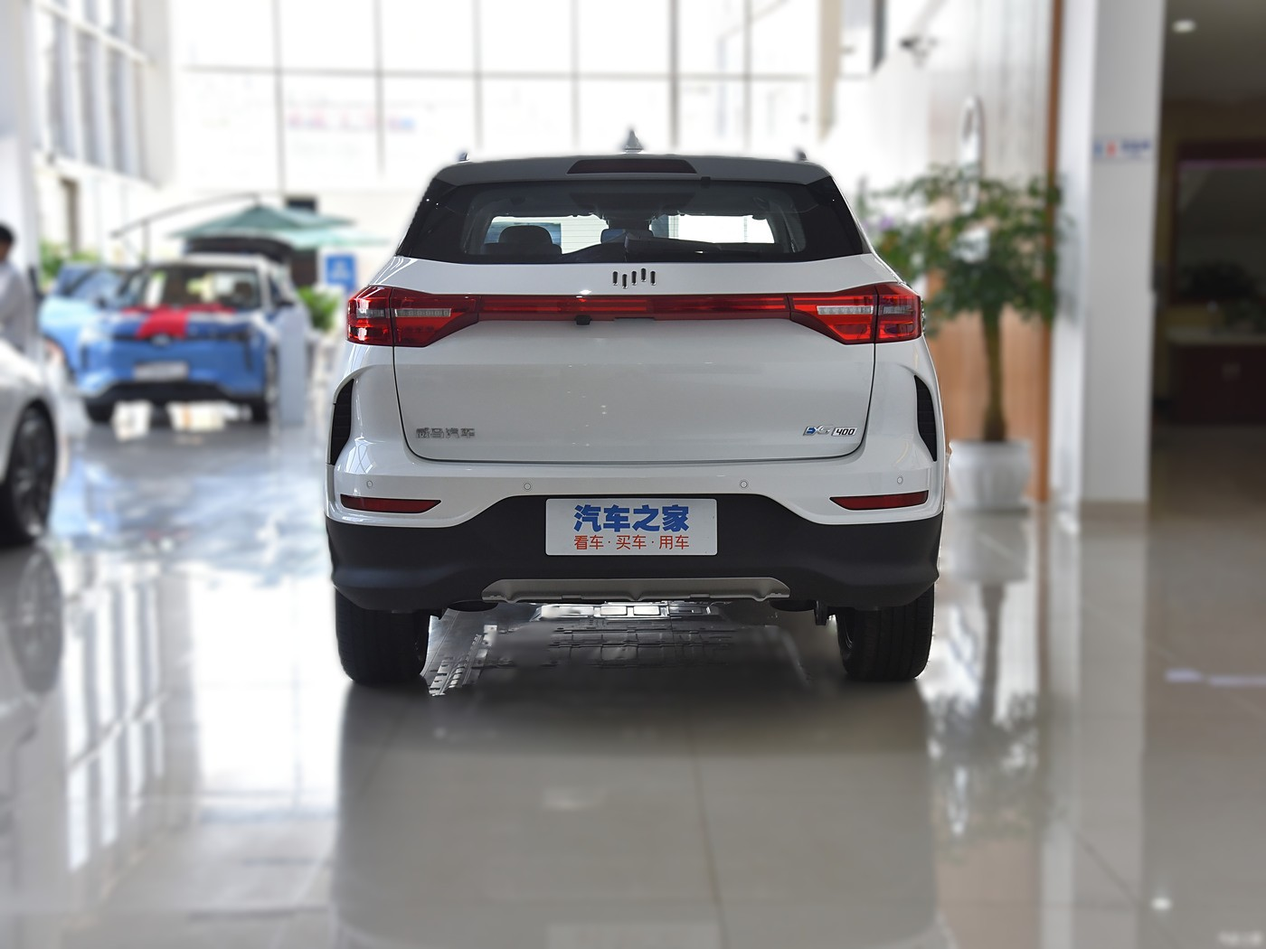WELTMEISTER: (612, 268, 655, 288)
